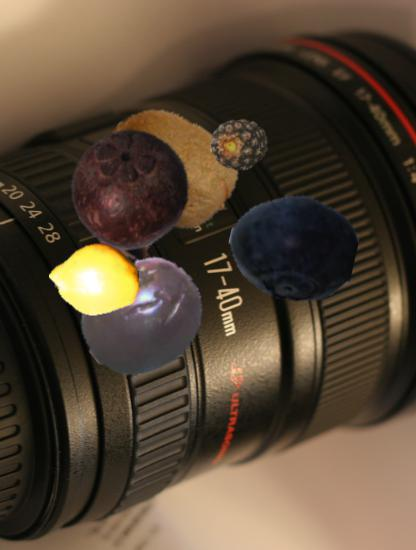Blueberry: (229, 184, 356, 311)
Kiwi: (101, 101, 240, 240)
Mangostan: (65, 128, 193, 256)
Passion: (79, 252, 208, 381)
Pineapple: (210, 116, 269, 175)
Quince: (49, 234, 140, 325)
